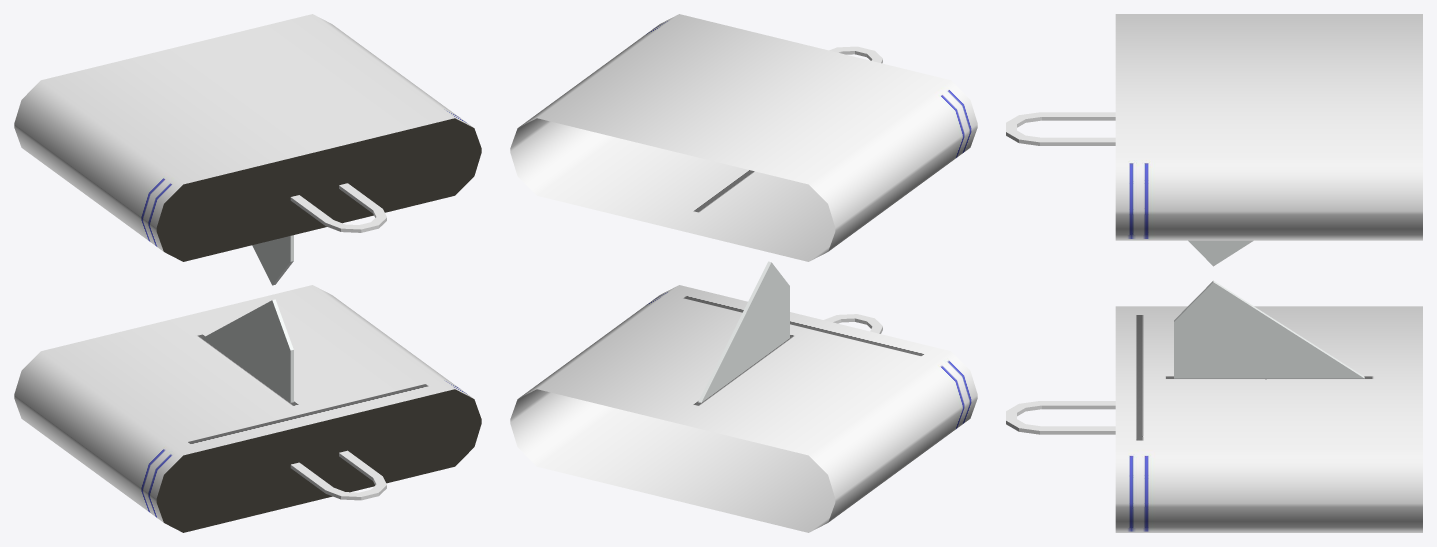
3 renders of one model, left to right at view 1: azimuth 30°, elevation 25°; view 2: azimuth 150°, elevation 25°; view 3: azimuth 270°, elevation 25°, orthographic. The views are drawn at different scales.
Visible parts, largest first — view 1: 对象001.001; view 2: 对象001.001; view 3: 对象001.001.
Boxes of the visible parts, x1=… form: 对象001.001: x1=14, y1=14, x2=481, y2=532; 对象001.001: x1=510, y1=14, x2=977, y2=532; 对象001.001: x1=1006, y1=14, x2=1422, y2=532.
Bounding box in the file's own units: 1.17 × 1.19 × 1.2.
2 materials, 2 textured.
